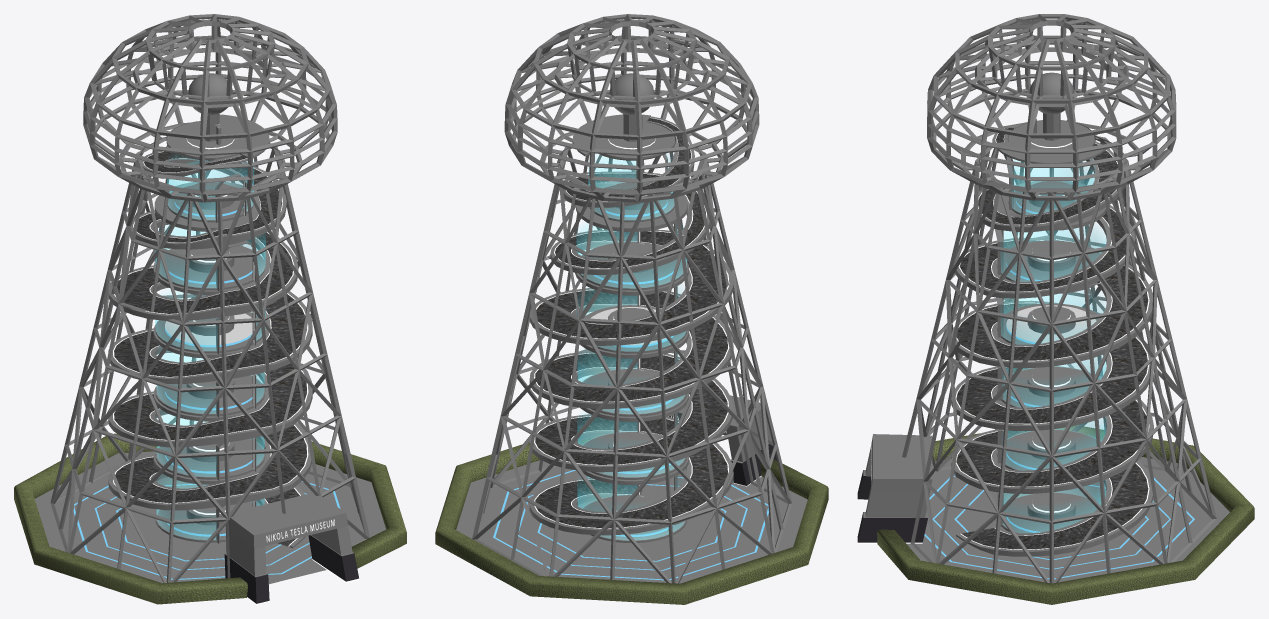
Rendered from tower.glb.
3 renders of one model, left to right at view 1: azimuth 30°, elevation 25°; view 2: azimuth 150°, elevation 25°; view 3: azimuth 270°, elevation 25°, orthographic.
Visible parts, largest first — view 1: body, head, floors, level.001, level.002, level.013, entrance, level.004, level.006, level.005, coil, level.011; view 2: body, floors, head, level.006, level.001, level.013, level.002, level.004, level.005, entrance, coil; view 3: body, head, floors, level.013, level.006, level.001, level.002, level.004, entrance, level.005, coil, level.003 (+5 smaller).
Boxes of the visible parts, x1,y1,x2,y2 form: body: (50, 136, 369, 582); head: (83, 14, 337, 202); floors: (14, 433, 406, 604); level.001: (108, 386, 311, 488); level.002: (108, 323, 312, 425); level.013: (108, 260, 312, 361); entrance: (224, 493, 359, 604); level.004: (130, 181, 298, 293); level.006: (108, 452, 305, 547); level.005: (142, 114, 286, 227); coil: (186, 73, 234, 149); level.011: (189, 247, 234, 272); body: (472, 143, 791, 583); floors: (435, 439, 828, 604); head: (504, 14, 759, 202); level.006: (529, 417, 733, 542); level.001: (529, 353, 733, 479); level.013: (529, 229, 733, 353); level.002: (529, 290, 733, 416); level.004: (547, 172, 710, 290); level.005: (563, 114, 694, 222); entrance: (668, 395, 776, 486); coil: (608, 73, 655, 149); body: (902, 136, 1216, 583); head: (927, 14, 1176, 200); floors: (877, 425, 1254, 604); level.013: (955, 238, 1152, 367); level.006: (951, 429, 1153, 556); level.001: (951, 366, 1153, 493); level.002: (951, 300, 1150, 430); level.004: (967, 181, 1135, 298); entrance: (857, 434, 932, 543); level.005: (980, 120, 1124, 232); coil: (1029, 72, 1074, 147); level.003: (1027, 495, 1075, 519).
Size of what is drawn, in the model's own units: 30.04 by 40.3 by 29.42.
Materials: 10 (5 with a texture image).
